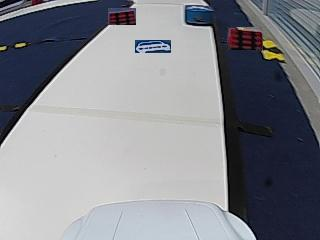prop: (185, 5, 214, 26)
